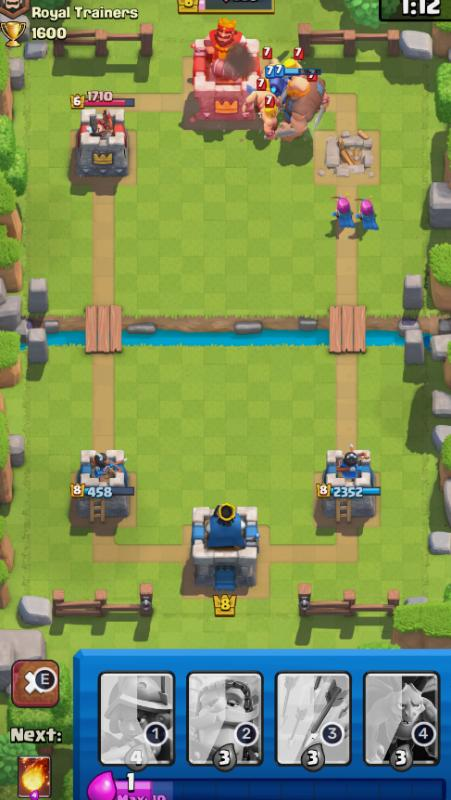archere: (323, 188, 356, 235), (359, 197, 386, 238)
geant: (270, 69, 327, 143)
mini_PEKKA: (266, 64, 290, 97)
